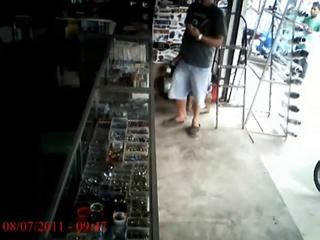Normal: (301, 2, 320, 34)
shoplifting: (164, 0, 227, 136)
